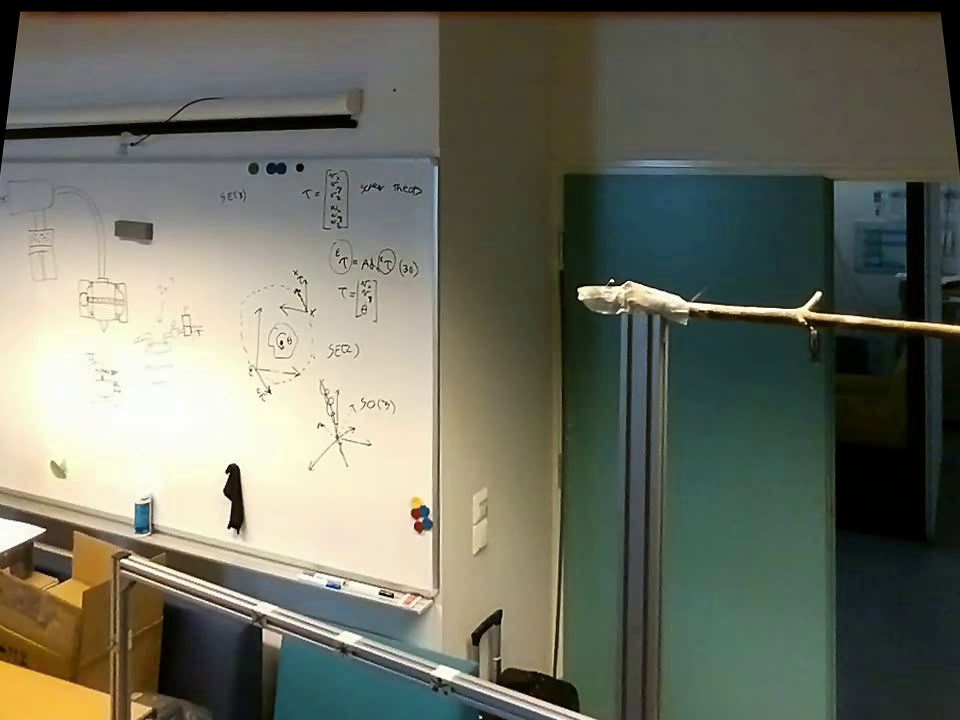aluminum_frame: (118, 542, 554, 718), (1, 483, 444, 611), (612, 312, 665, 718), (426, 151, 451, 597), (2, 145, 442, 169), (105, 551, 137, 716)
branch: (698, 277, 954, 354)
